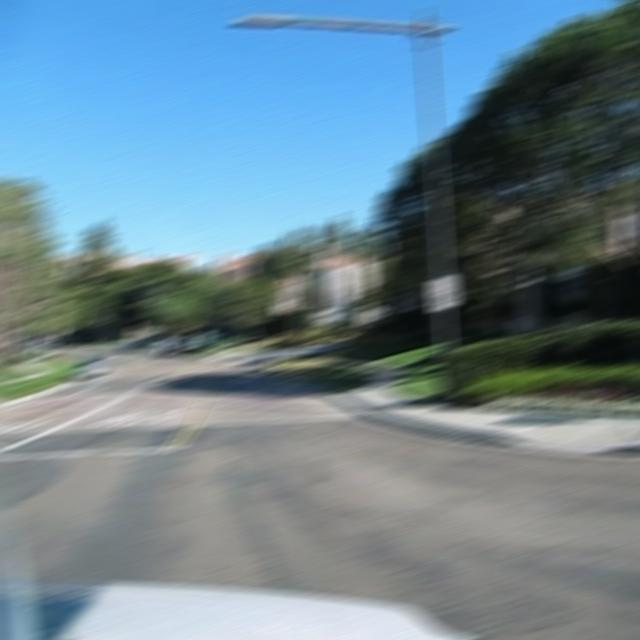speedLimit25: (428, 276, 458, 308)
